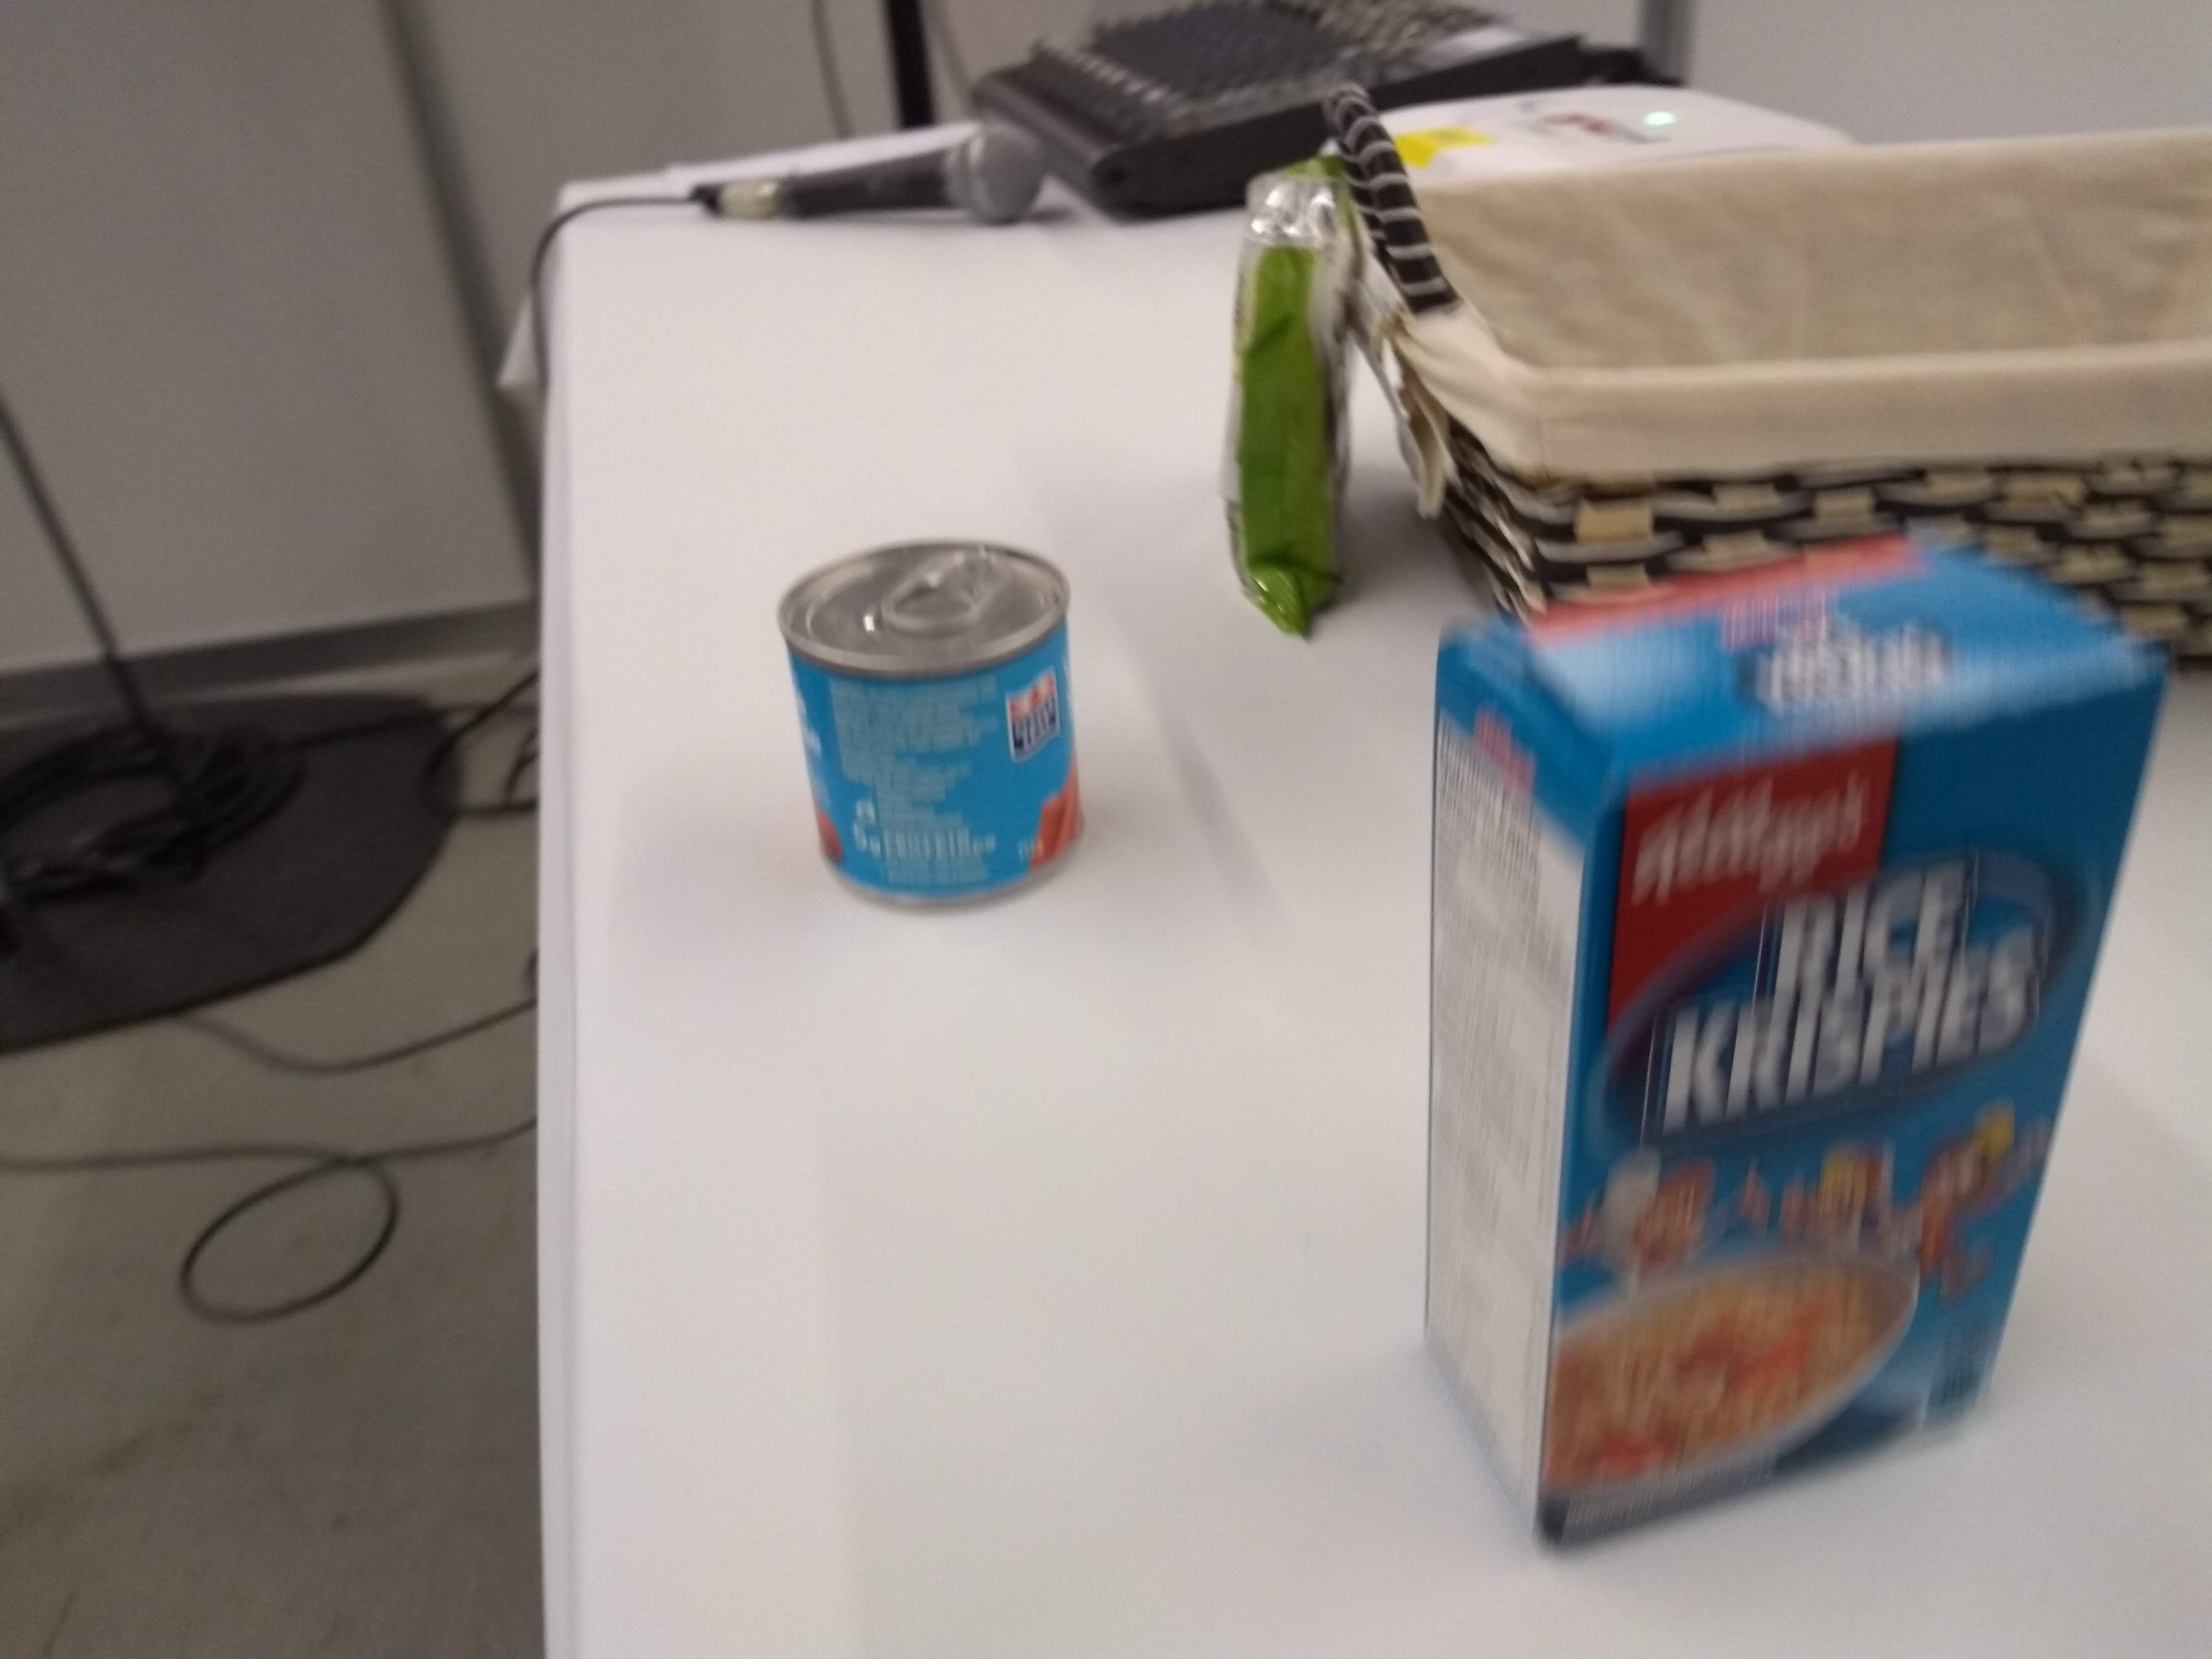cereal: (1400, 514, 2175, 1567)
noodles: (1193, 143, 1372, 648)
sausages: (772, 533, 1101, 927)
